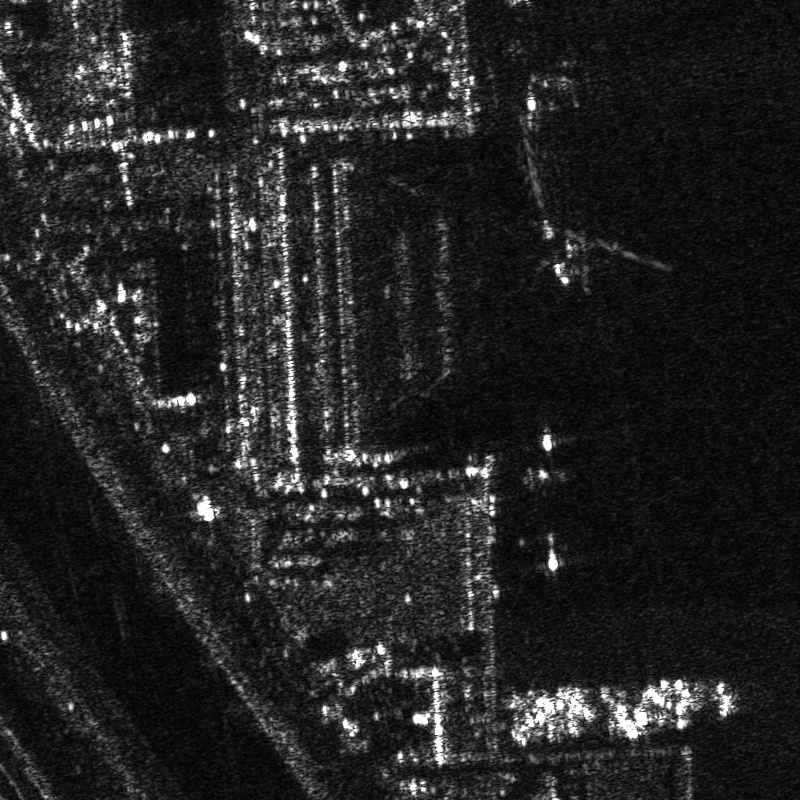A220: (546, 221, 641, 294), (524, 46, 598, 113)
